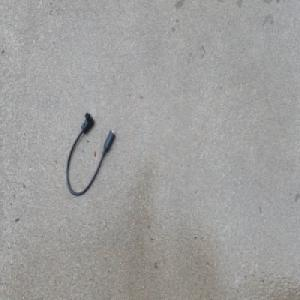Wire: (65, 111, 116, 199)
